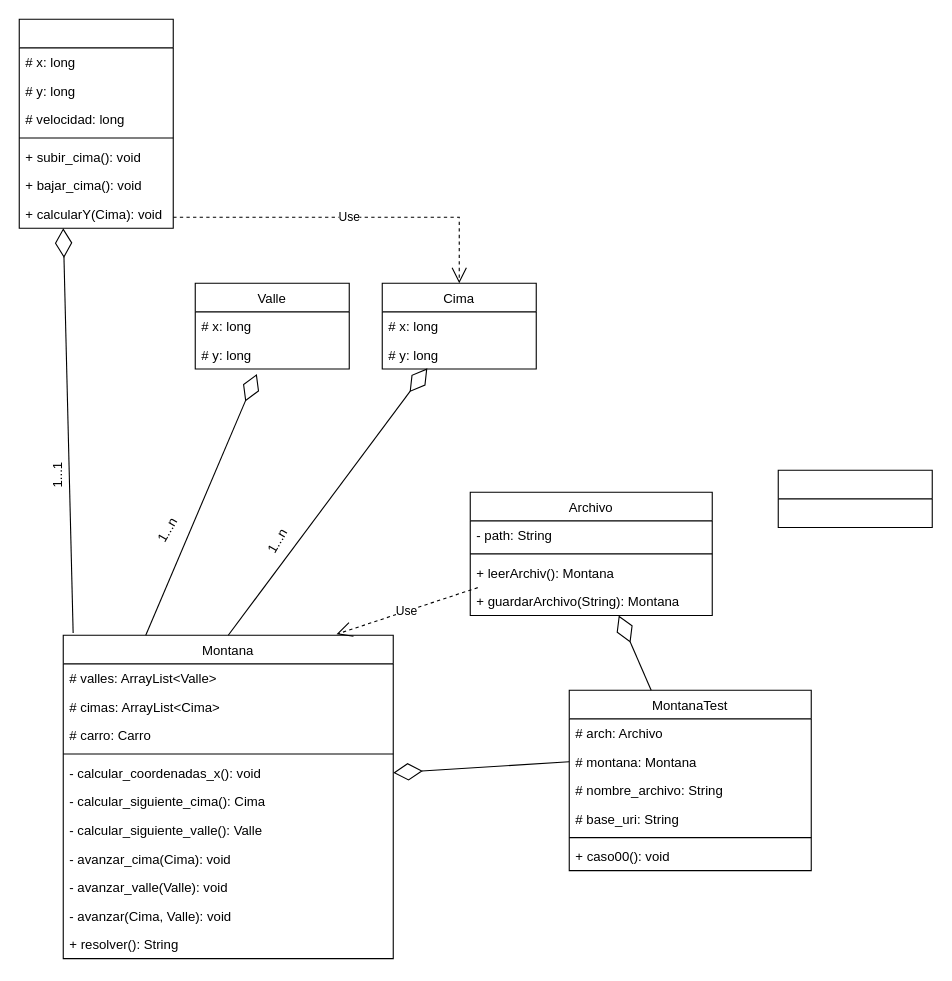
Some shapes in this 952 by 981 pixel diagram are drawn without their labels. Each missing label, with the box of its shape:
Carro: (18, 18, 173, 228)
Main: (777, 469, 932, 527)
